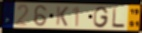1: (72, 6, 81, 27)
2: (15, 3, 31, 27)
6: (33, 4, 48, 28)
G: (93, 6, 110, 29)
K: (56, 6, 70, 28)
L: (111, 7, 126, 29)
